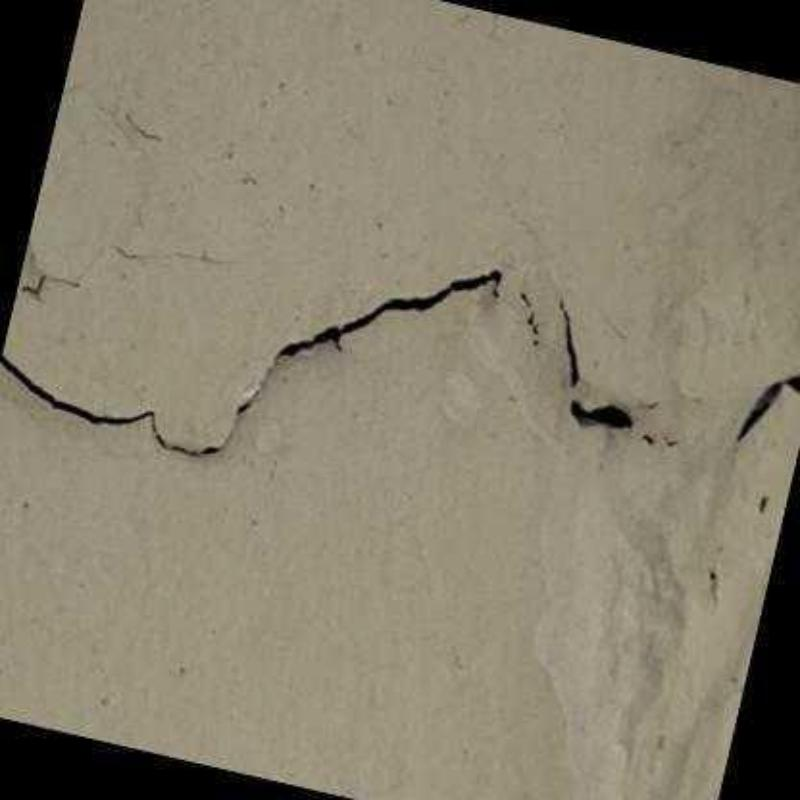crack: (0, 343, 252, 459), (262, 259, 494, 374), (733, 367, 800, 444), (570, 395, 632, 435), (560, 300, 581, 378)
